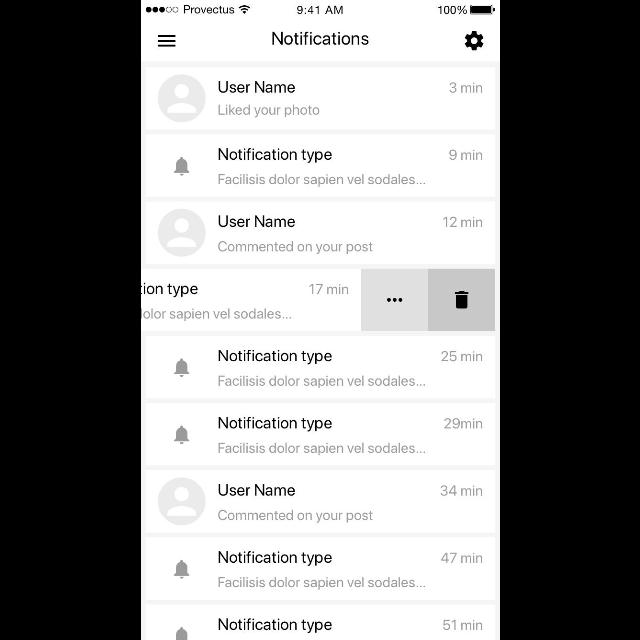icon: (158, 477, 206, 525), (158, 75, 205, 123), (158, 208, 205, 256), (464, 31, 484, 51), (173, 358, 189, 378), (173, 426, 189, 444), (173, 560, 189, 578), (174, 158, 188, 176), (454, 291, 468, 309), (158, 36, 176, 46), (175, 626, 187, 640), (387, 298, 403, 302)
text: (218, 375, 428, 389), (217, 442, 425, 456), (218, 576, 426, 590), (218, 175, 426, 188), (140, 308, 292, 322), (216, 242, 374, 254), (218, 510, 372, 522), (218, 148, 332, 164), (218, 416, 332, 432), (218, 551, 332, 567), (218, 350, 332, 364), (218, 618, 332, 632), (272, 31, 368, 45), (218, 105, 320, 118), (218, 81, 294, 93), (218, 216, 294, 228), (218, 484, 294, 496), (141, 283, 199, 297), (441, 552, 483, 564), (443, 216, 483, 228), (443, 418, 482, 429), (440, 351, 482, 361), (440, 486, 482, 496), (449, 82, 483, 94), (309, 284, 349, 294), (443, 620, 482, 630), (449, 150, 483, 160)
uppertaskbar: (140, 1, 500, 15)
